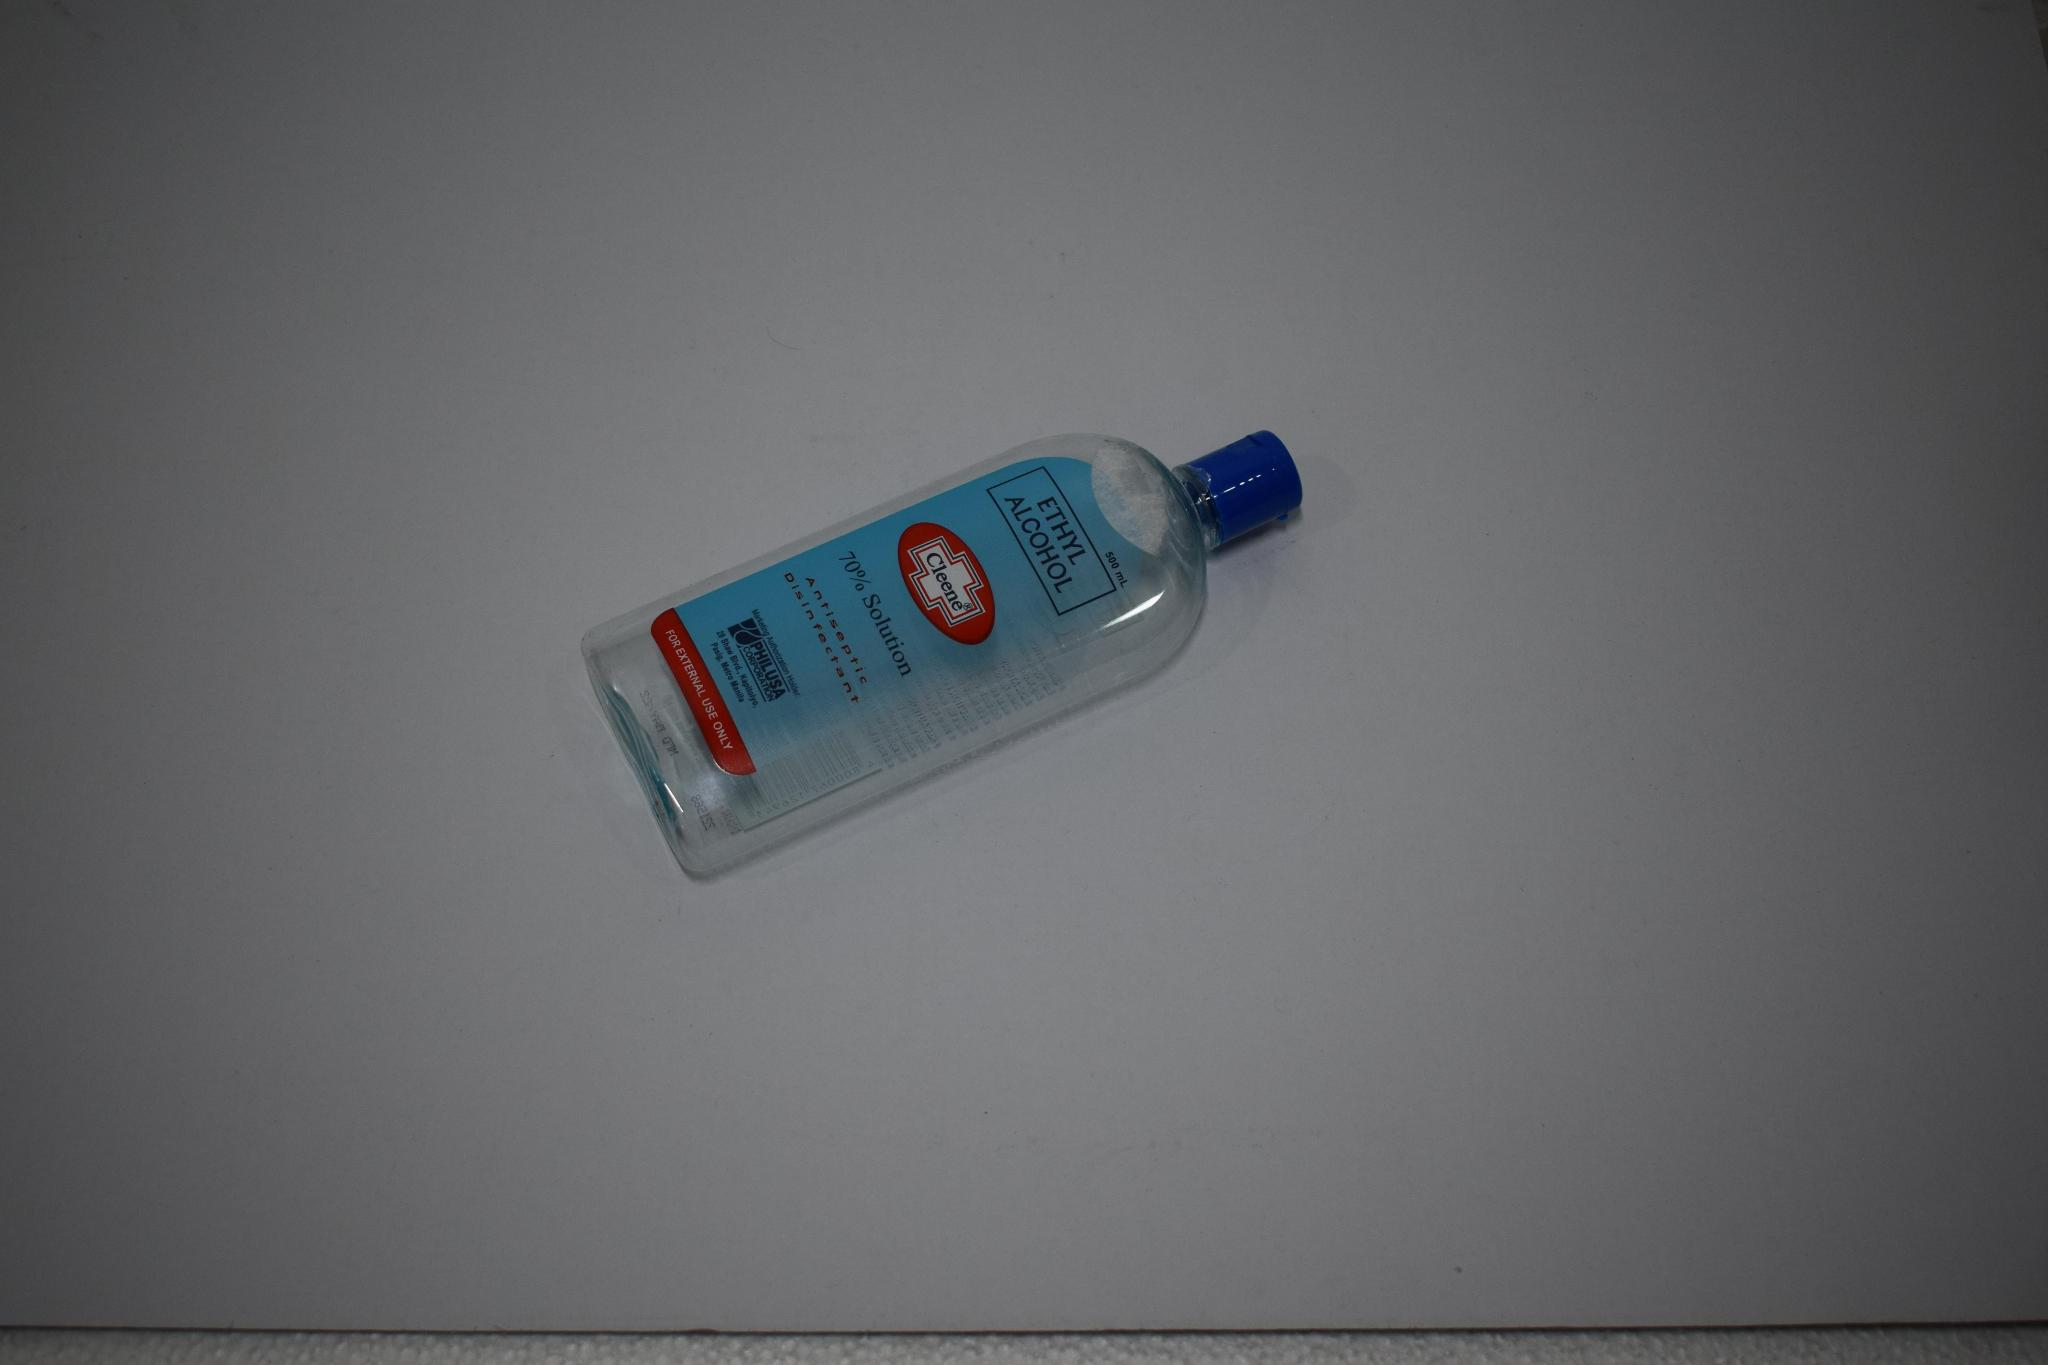bottle: (467, 420, 1207, 887)
